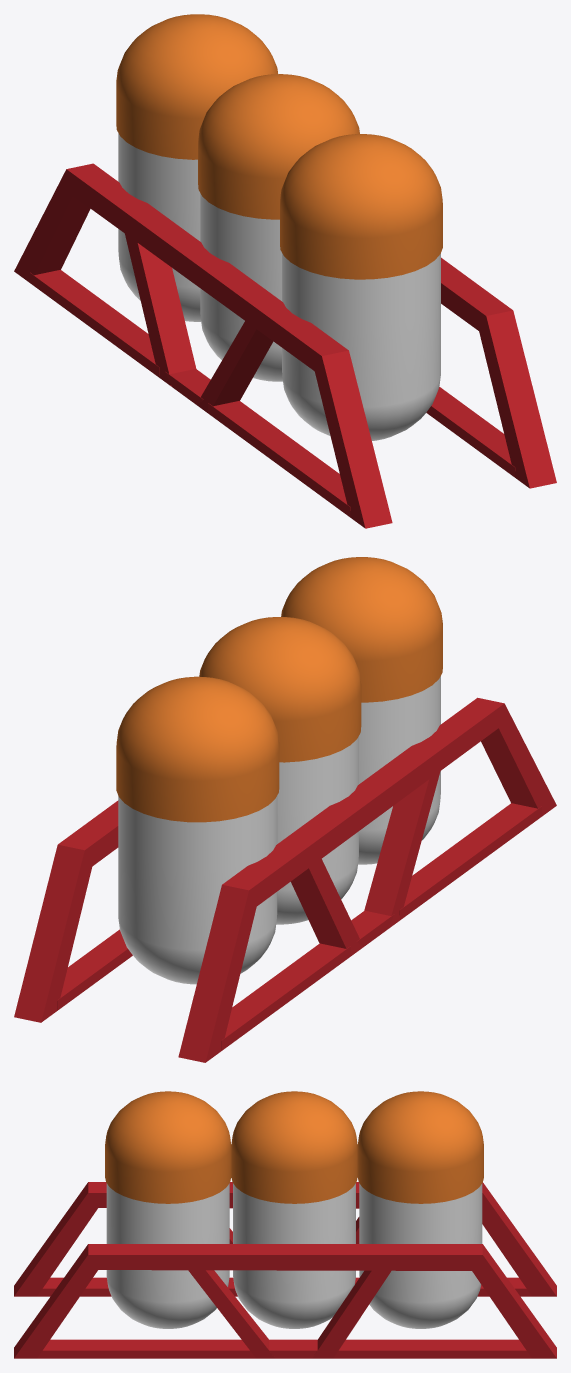
File: Containers.fbx
3 renders of one model, top to bottom at view 1: azimuth 30°, elevation 25°; view 2: azimuth 150°, elevation 25°; view 3: azimuth 270°, elevation 25°, orthographic. The views are drawn at different scales.
Parts seen in each view (by area): view 1: Sphere.002; view 2: Sphere.002; view 3: Sphere.002.
Part boxes in pixels (x1,y1,x2,y2): Sphere.002: (14, 14, 556, 528); Sphere.002: (14, 557, 556, 1062); Sphere.002: (14, 1091, 556, 1358).
Bounding box in the file's own units: 2.37 × 3.36 × 7.36.
